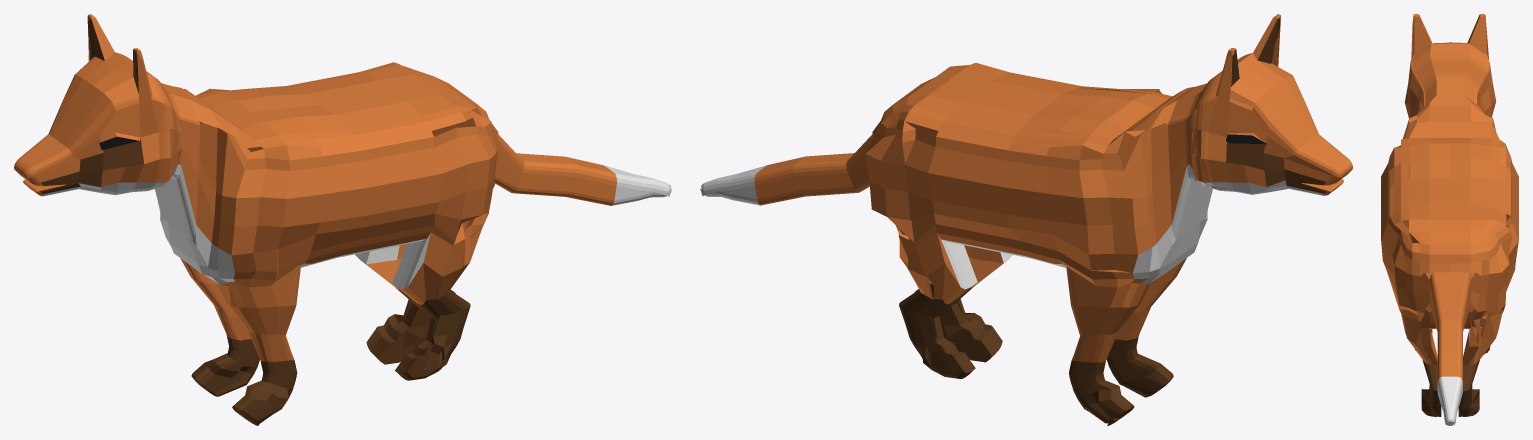
The model's file is Fox.fbx.
3 views of the same model, side by side, from view 1: azimuth 30°, elevation 25°; view 2: azimuth 150°, elevation 25°; view 3: azimuth 270°, elevation 25° (orthographic). The views are drawn at different scales.
Visible parts, largest first — view 1: Cube.003; view 2: Cube.003; view 3: Cube.003.
Part boxes in pixels (<box>): Cube.003: <box>14,14,671,425</box>; Cube.003: <box>700,14,1352,425</box>; Cube.003: <box>1381,14,1518,425</box>.
Bounding box in the file's own units: 22.16 × 87.44 × 52.62.
